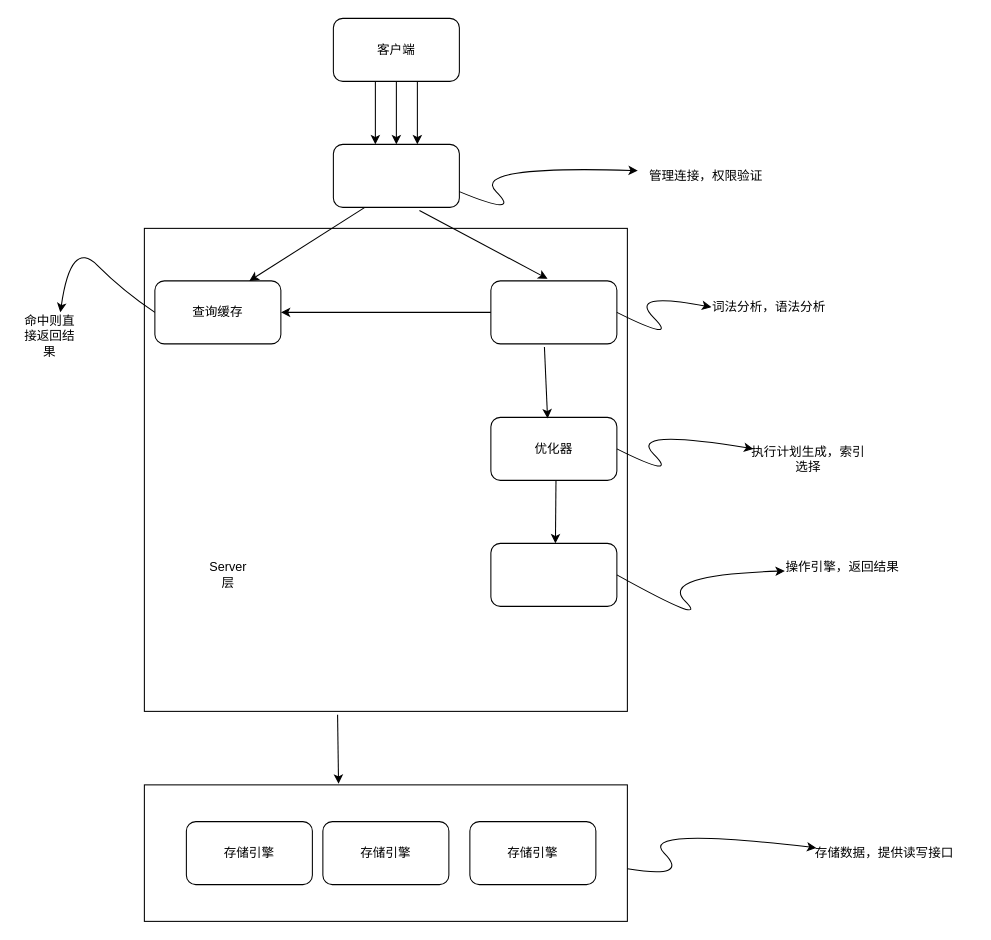
This 991x940 diagram has some shape labels left out. Here are the shapes that lost their labels. From the top down, the centre of each, then its label:
At (395,175): "连接器".
At (553,312): "分析器".
At (553,574): "执行器".
